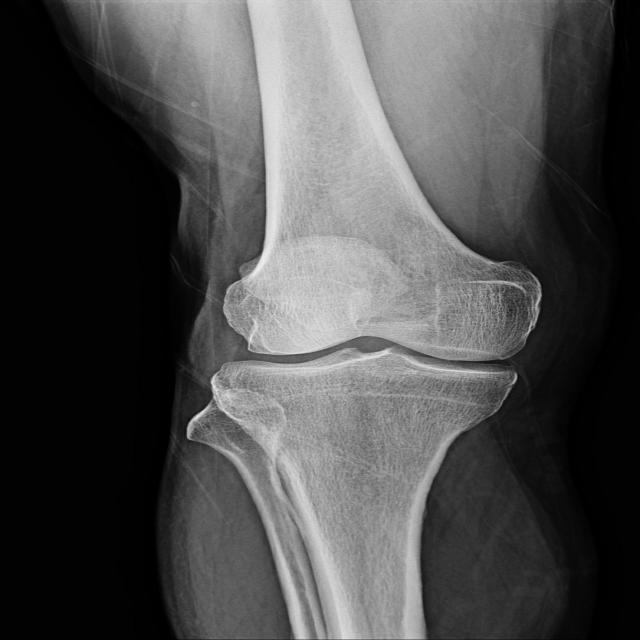osteo: (204, 268, 547, 415)
